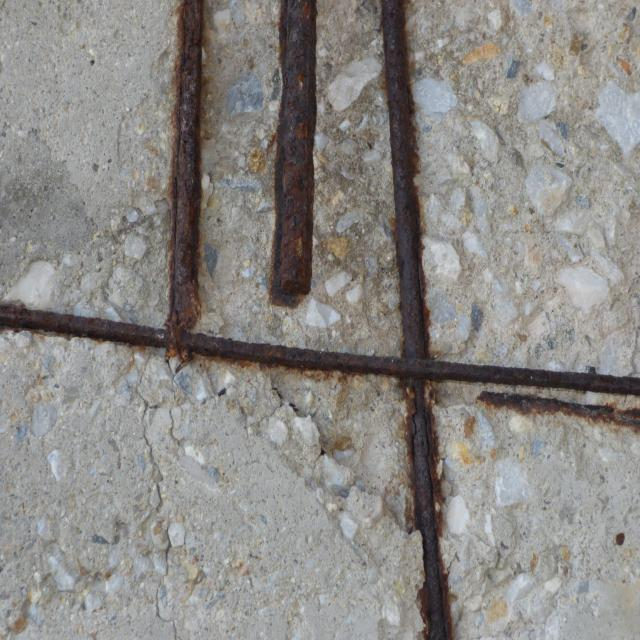corrosion: (160, 0, 449, 393), (5, 280, 640, 418), (400, 424, 464, 640)
